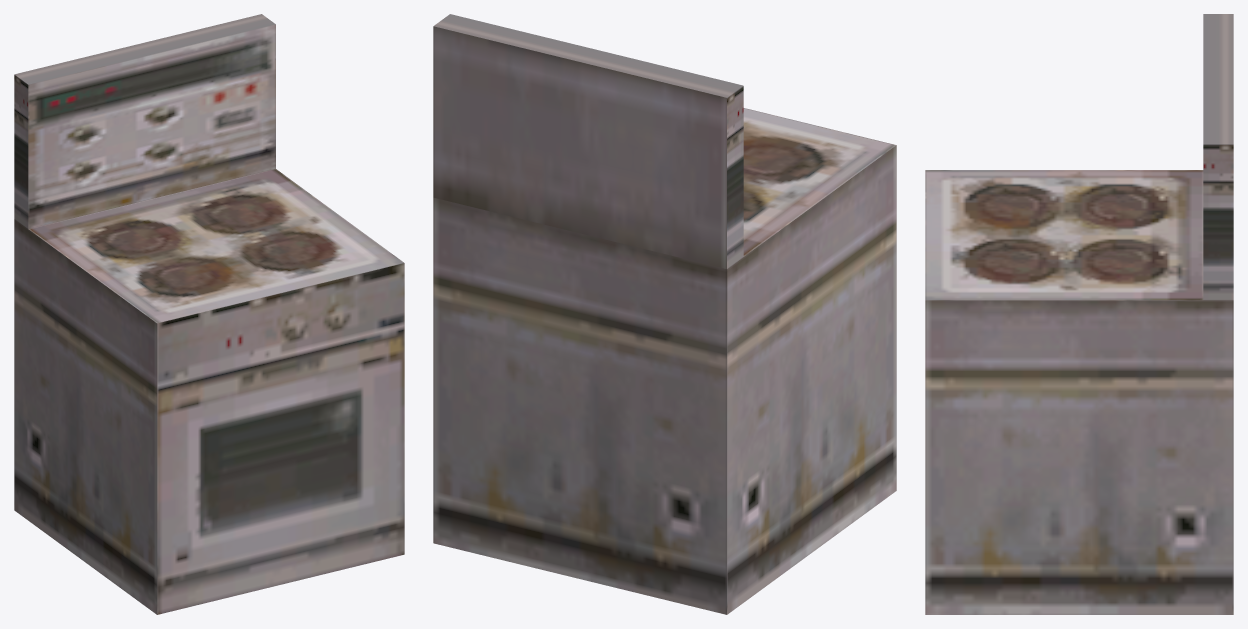
The model's file is Cooker1.glb.
3 views of the same model, side by side, from view 1: azimuth 30°, elevation 25°; view 2: azimuth 150°, elevation 25°; view 3: azimuth 270°, elevation 25° (orthographic). The views are drawn at different scales.
Parts seen in each view (by area): view 1: COOKER1; view 2: COOKER1; view 3: COOKER1.
Boxes of the visible parts, left/top/right/bottom form: COOKER1: left=14, top=14, right=404, bottom=614; COOKER1: left=433, top=14, right=896, bottom=614; COOKER1: left=925, top=14, right=1233, bottom=614.
Bounding box in the file's own units: 0.8 × 1.35 × 0.8.
Materials: 1 (1 with a texture image).
